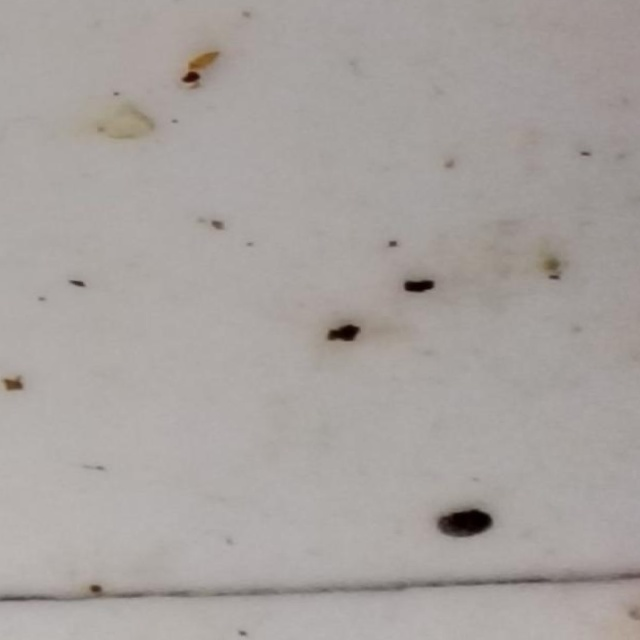varroa: (434, 512, 491, 541)
